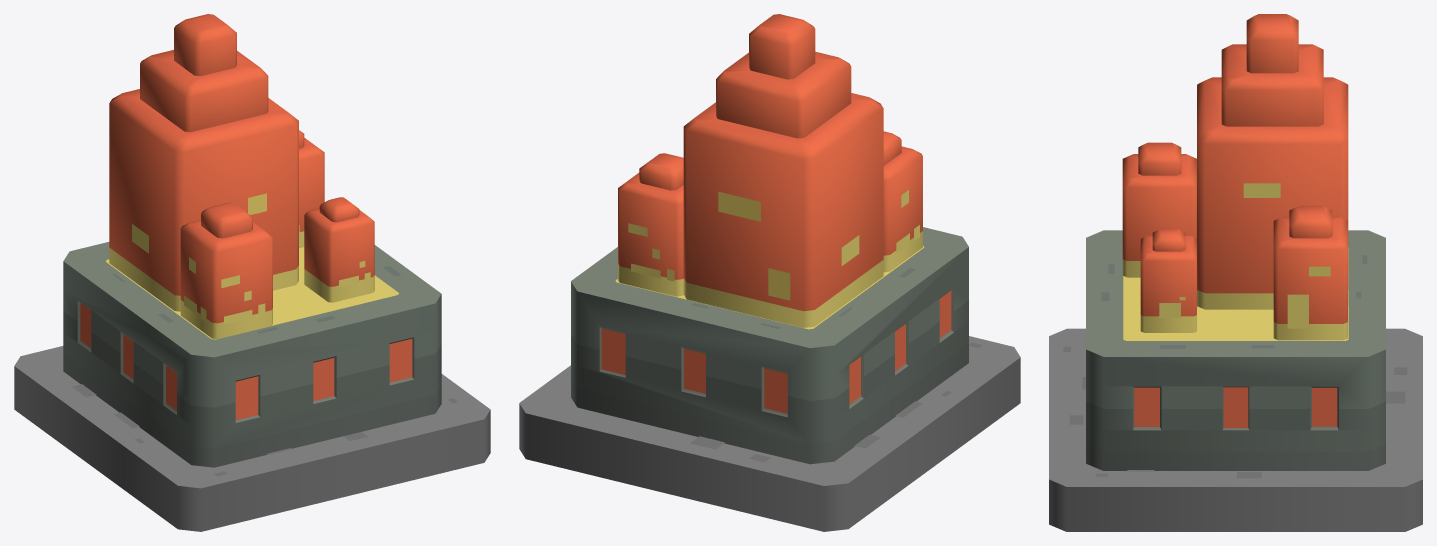
Rendered from pvpd_BlazingBonfire_01.obj.
3 renders of one model, left to right at view 1: azimuth 30°, elevation 25°; view 2: azimuth 150°, elevation 25°; view 3: azimuth 270°, elevation 25°, orthographic. The views are drawn at different scales.
Parts seen in each view (by area): view 1: pvpd_BlazingBonfire_01; view 2: pvpd_BlazingBonfire_01; view 3: pvpd_BlazingBonfire_01.
Boxes of the visible parts, <box> form: pvpd_BlazingBonfire_01: <box>14,14,490,531</box>; pvpd_BlazingBonfire_01: <box>519,14,1020,531</box>; pvpd_BlazingBonfire_01: <box>1049,14,1422,531</box>.
Bounding box in the file's own units: 3 × 3.69 × 3.
